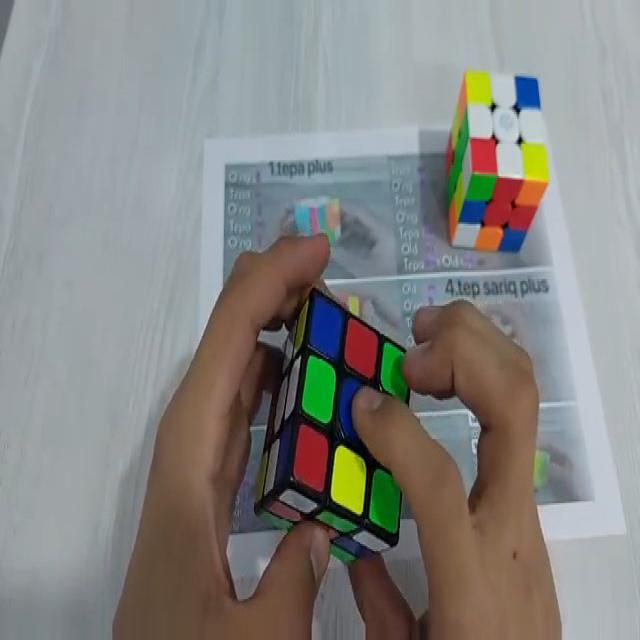Rub: (252, 284, 414, 561), (445, 68, 550, 257)
